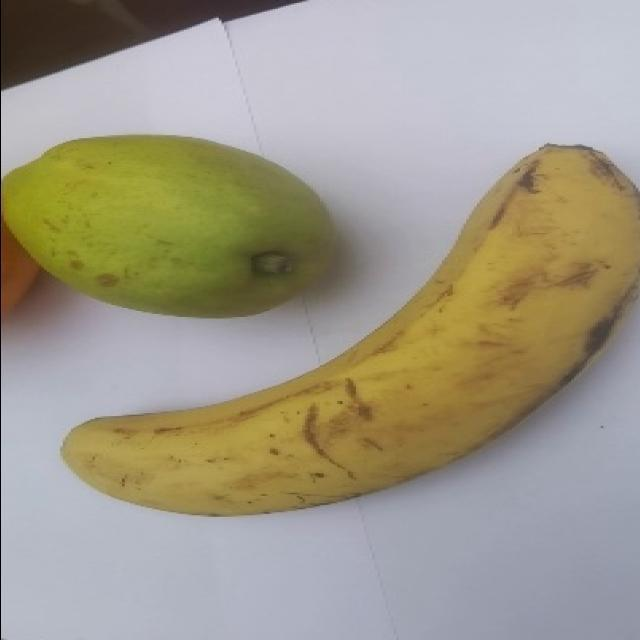Banana: (59, 140, 639, 517)
